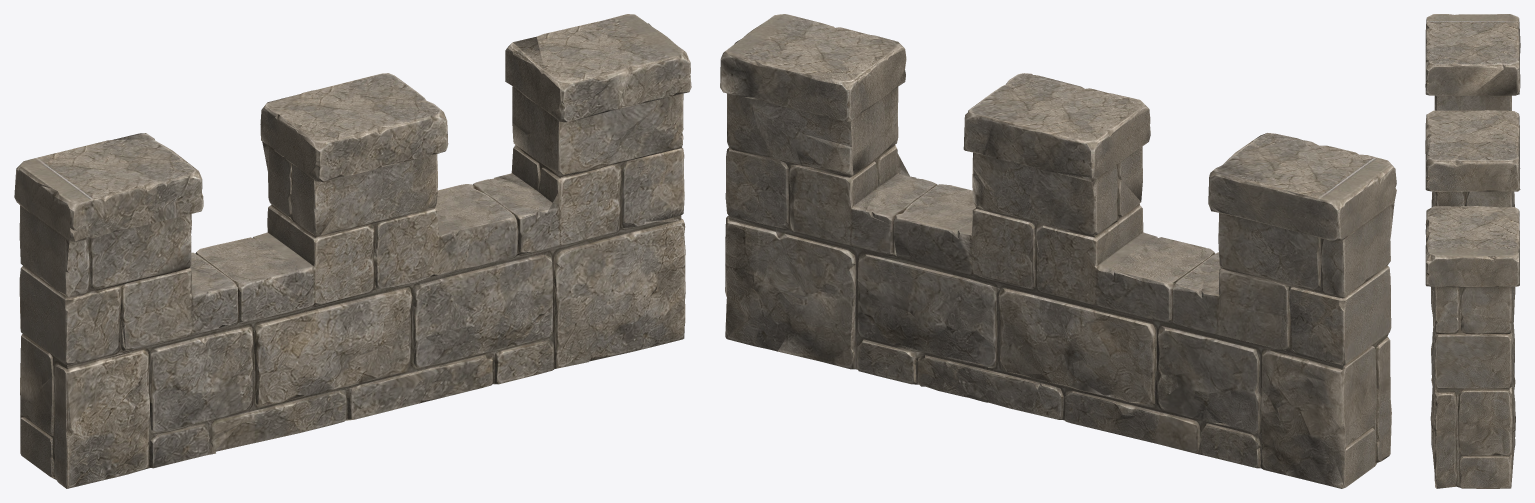
File: parapet.glb
3 views of the same model, side by side, from view 1: azimuth 30°, elevation 25°; view 2: azimuth 150°, elevation 25°; view 3: azimuth 270°, elevation 25° (orthographic). The views are drawn at different scales.
Parts seen in each view (by area): view 1: parapet; view 2: parapet; view 3: parapet.
Boxes of the visible parts, x1,y1,x2,y2 form: parapet: [14, 14, 691, 488]; parapet: [720, 14, 1396, 488]; parapet: [1425, 14, 1520, 488].
Bounding box in the file's own units: 1.9 × 0.8475 × 0.3137.
Materials: 1 (1 with a texture image).
